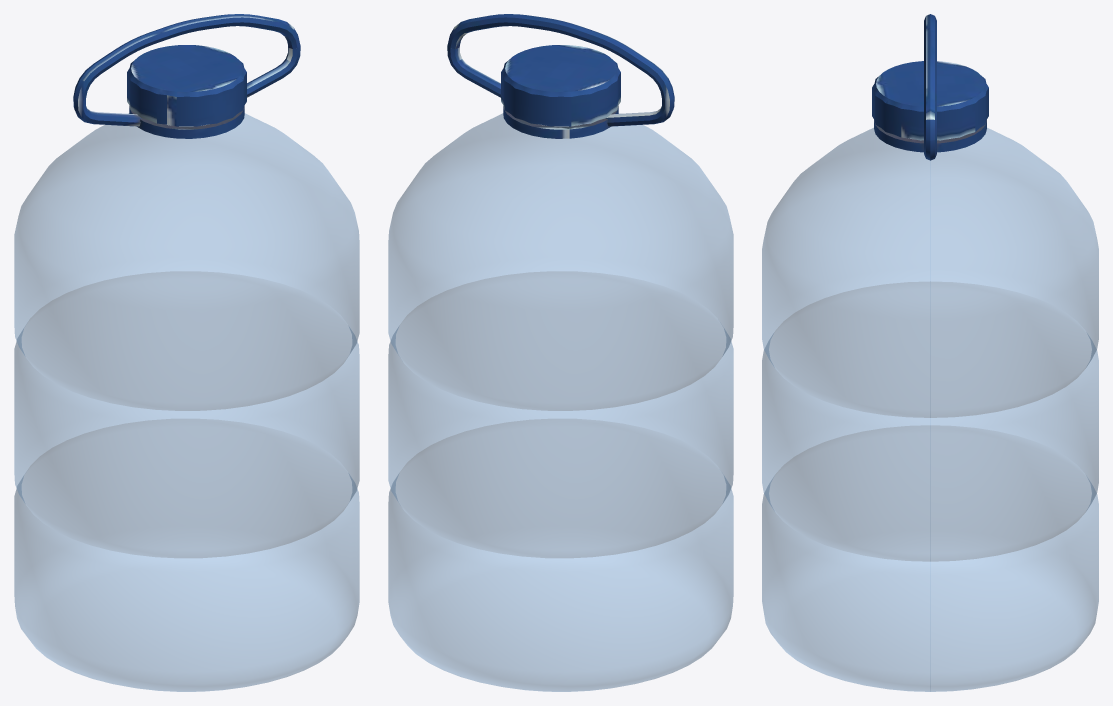
File: galao_vazio.glb
3 views of the same model, side by side, from view 1: azimuth 30°, elevation 25°; view 2: azimuth 150°, elevation 25°; view 3: azimuth 270°, elevation 25° (orthographic). The views are drawn at different scales.
Parts seen in each view (by area): view 1: casca, tampa; view 2: casca, tampa; view 3: casca, tampa.
Part boxes in pixels (x1,y1,x2,y2): casca: [14, 113, 359, 691]; tampa: [73, 14, 300, 138]; casca: [388, 113, 733, 691]; tampa: [447, 14, 674, 138]; casca: [762, 128, 1098, 691]; tampa: [872, 14, 988, 160].
Bounding box in the file's own units: 0.17 × 0.3297 × 0.17.
Materials: 2 (1 with a texture image).
